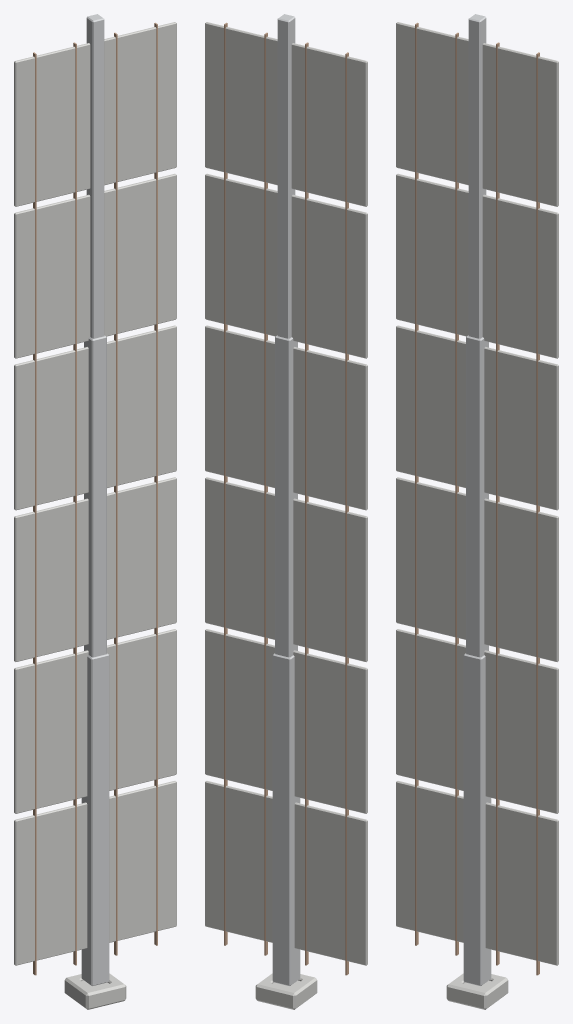
The model's file is ax_power_09_heat_pipe_boom_l_deployed.glb.
3 renders of one model, left to right at view 1: azimuth 30°, elevation 25°; view 2: azimuth 150°, elevation 25°; view 3: azimuth 330°, elevation 25°, orthographic.
Parts seen in each view (by area): view 1: panel_6, panel_5, panel_3, panel_4, panel_2, panel_1, boom, heat_pipes, mount_block; view 2: panel_6, panel_5, panel_3, panel_4, panel_2, panel_1, boom, heat_pipes, mount_block; view 3: panel_6, panel_5, panel_3, panel_4, panel_2, panel_1, boom, heat_pipes, mount_block.
Part boxes in pixels (x1,y1,x2,y2): panel_6: (14, 22, 176, 206); panel_5: (14, 173, 176, 358); panel_3: (14, 477, 176, 661); panel_4: (14, 325, 176, 510); panel_2: (14, 629, 176, 813); panel_1: (14, 781, 176, 965); boom: (81, 14, 109, 985); heat_pipes: (33, 22, 157, 975); mount_block: (64, 973, 126, 1009); panel_6: (205, 22, 367, 206); panel_5: (205, 173, 367, 358); panel_3: (205, 477, 367, 661); panel_4: (205, 325, 367, 510); panel_2: (205, 629, 367, 813); panel_1: (205, 781, 367, 965); boom: (272, 14, 300, 985); heat_pipes: (224, 22, 348, 975); mount_block: (255, 973, 317, 1009); panel_6: (396, 22, 558, 206); panel_5: (396, 173, 558, 358); panel_3: (396, 477, 558, 661); panel_4: (396, 325, 558, 510); panel_2: (396, 629, 558, 813); panel_1: (396, 781, 558, 965); boom: (463, 14, 491, 985); heat_pipes: (415, 22, 539, 975); mount_block: (446, 973, 508, 1009).
Bounding box in the file's own units: 1.6 × 9.26 × 0.4.
